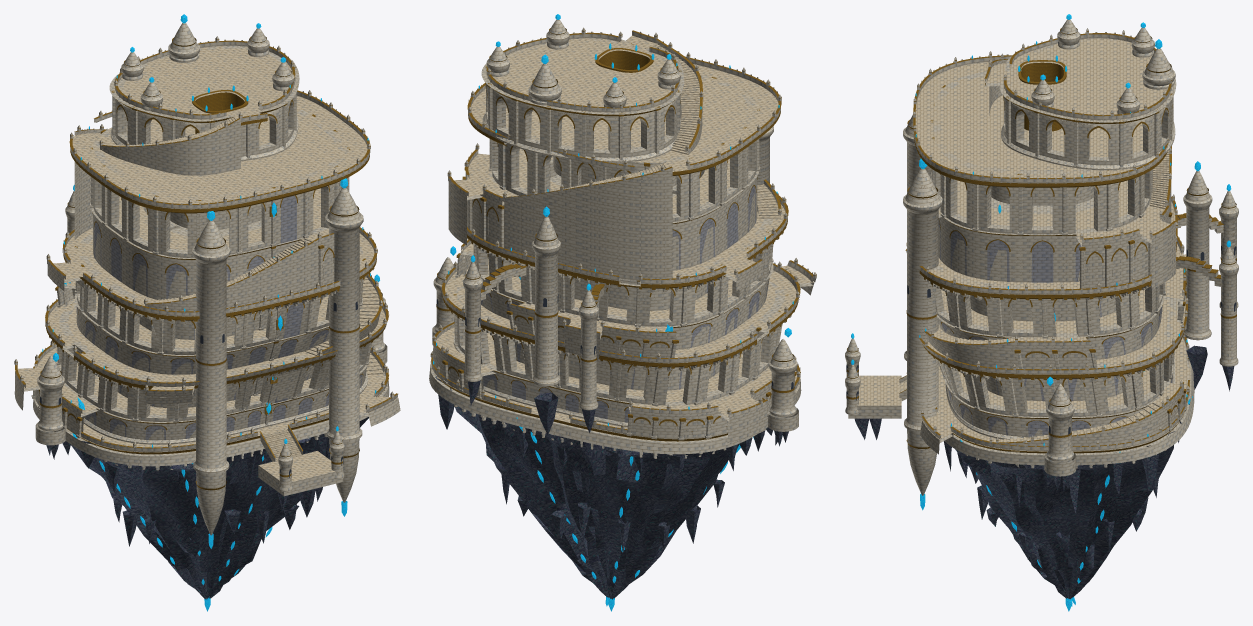
File: skycitadel.glb
3 renders of one model, left to right at view 1: azimuth 30°, elevation 25°; view 2: azimuth 150°, elevation 25°; view 3: azimuth 270°, elevation 25°, orthographic. The views are drawn at different scales.
Visible parts, largest first — view 1: CC_castle_skycitadel; view 2: CC_castle_skycitadel; view 3: CC_castle_skycitadel.
Part boxes in pixels (bbox=[...]): CC_castle_skycitadel: bbox=[14, 14, 400, 611]; CC_castle_skycitadel: bbox=[429, 14, 816, 611]; CC_castle_skycitadel: bbox=[845, 14, 1238, 611].
Bounding box in the file's own units: 94 × 145 × 88.77.
7 materials, 6 textured.
